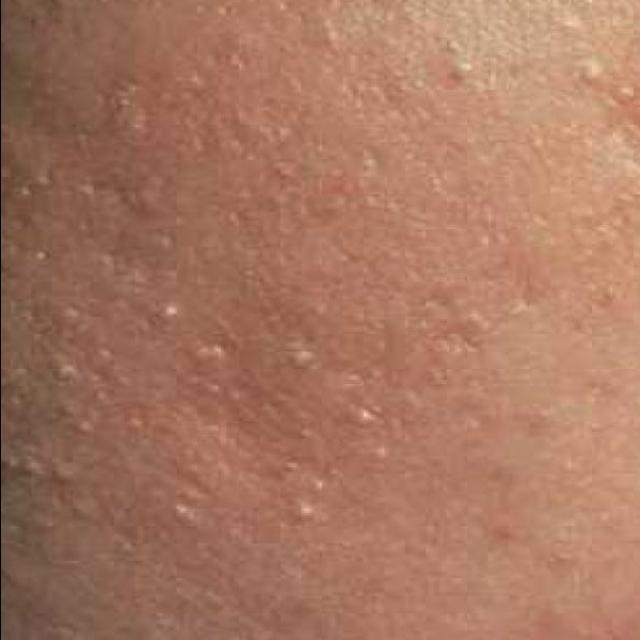whitehead: (0, 191, 462, 605)
